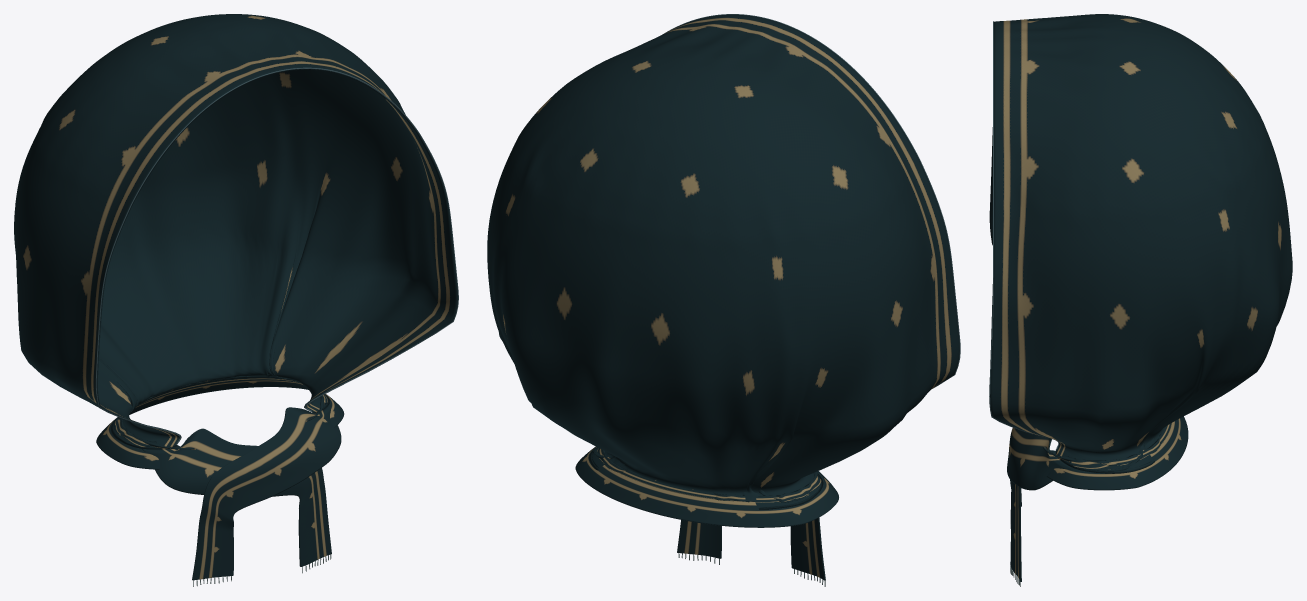
The model's file is Masculine-jersey-pashmina237-headgear.glb.
3 renders of one model, left to right at view 1: azimuth 30°, elevation 25°; view 2: azimuth 150°, elevation 25°; view 3: azimuth 270°, elevation 25°, orthographic. The views are drawn at different scales.
Parts seen in each view (by area): view 1: 226 headgear / Headwear / continuous woven pashmina237, 226 headgear / Headwear / face edge237; view 2: 226 headgear / Headwear / continuous woven pashmina237, 226 headgear / Headwear / face edge237; view 3: 226 headgear / Headwear / continuous woven pashmina237, 226 headgear / Headwear / face edge237.
Boxes of the visible parts, left/top/right/bottom form: 226 headgear / Headwear / continuous woven pashmina237: left=14, top=14, right=457, bottom=580; 226 headgear / Headwear / face edge237: left=95, top=67, right=458, bottom=444; 226 headgear / Headwear / continuous woven pashmina237: left=487, top=14, right=959, bottom=580; 226 headgear / Headwear / face edge237: left=664, top=14, right=960, bottom=388; 226 headgear / Headwear / continuous woven pashmina237: left=989, top=14, right=1292, bottom=581; 226 headgear / Headwear / face edge237: left=989, top=21, right=1058, bottom=450.
Size of the model in its own units: 1.03 by 1.35 by 0.7127.
Materials: 3 (1 with a texture image).
